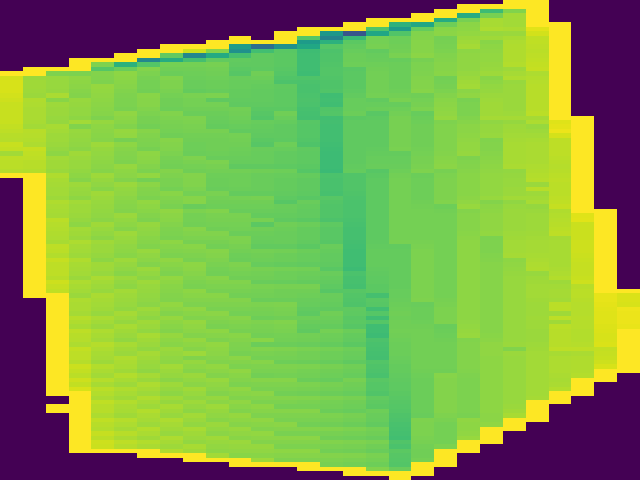cube: (4, 2, 640, 480)
